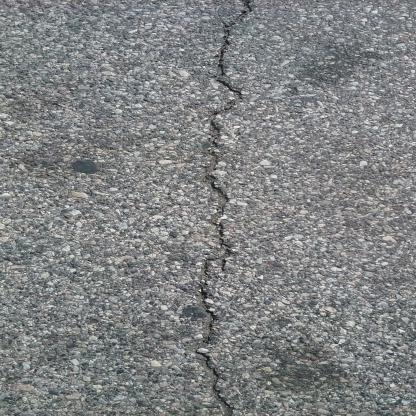Cracks: (181, 0, 264, 415)
